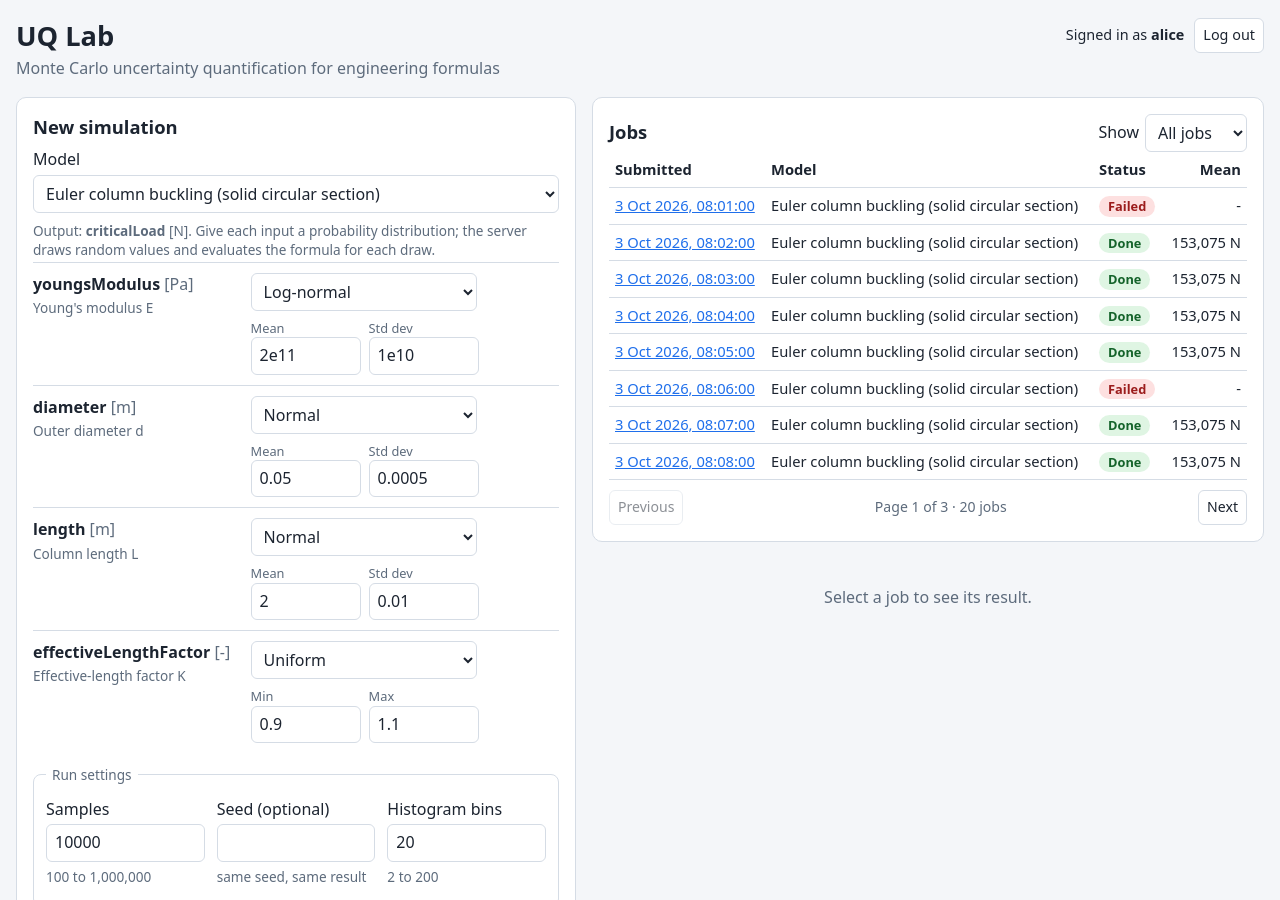
it: App › pages through the jobs and filters them by status
Expected: the text "Page 1 of 3 · 20 jobs" is shown, [875,497,1007,518]
Expected: the button "Previous" is disabled, [609,490,684,525]
Click the button "Next" at [1223, 508], box [1198,490,1247,525]
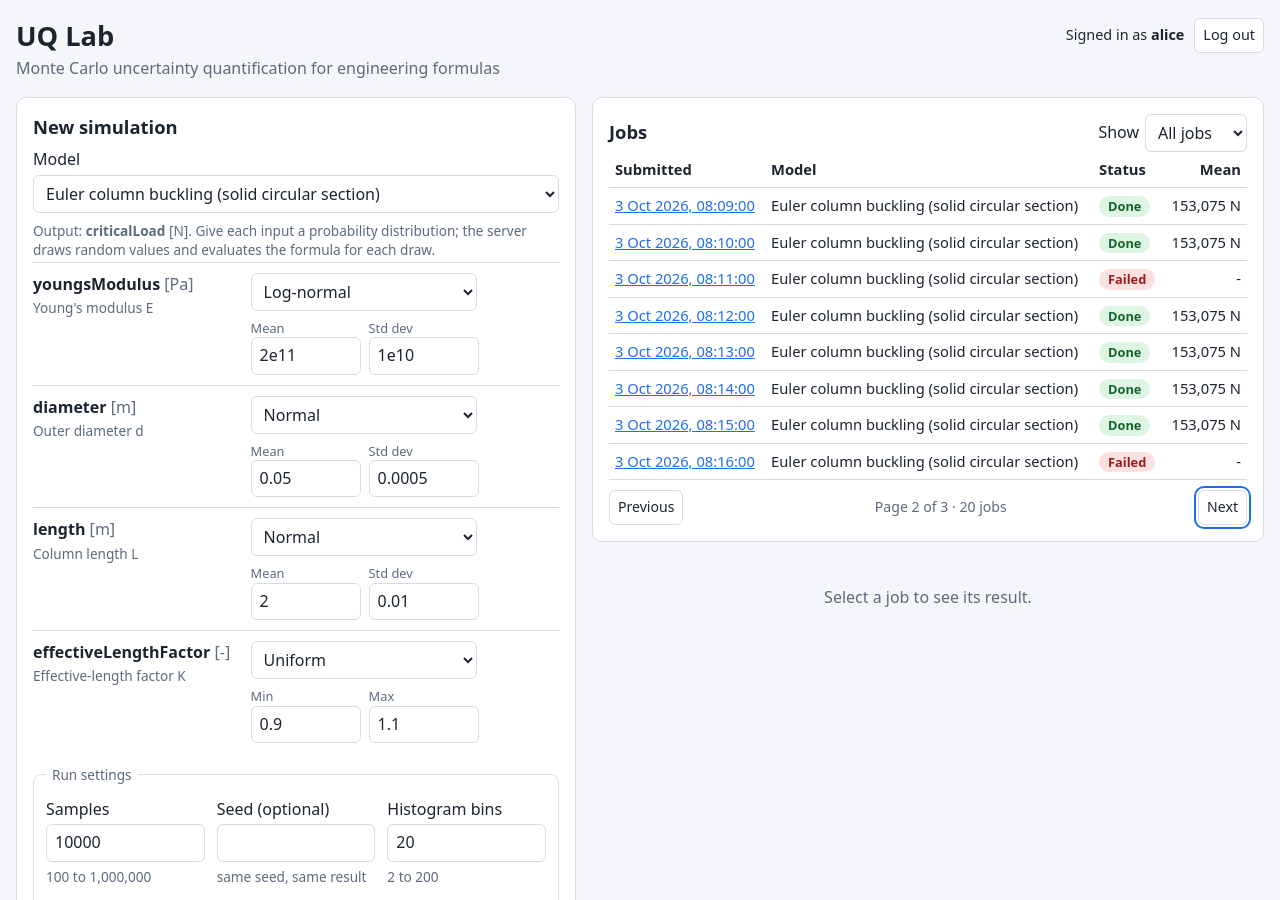
Now the text "Page 2 of 3 · 20 jobs" is shown, box [875,497,1007,518]
Select "Failed" in the dropdown named "Filter by status" at [1196, 133], box [1145,114,1247,152]
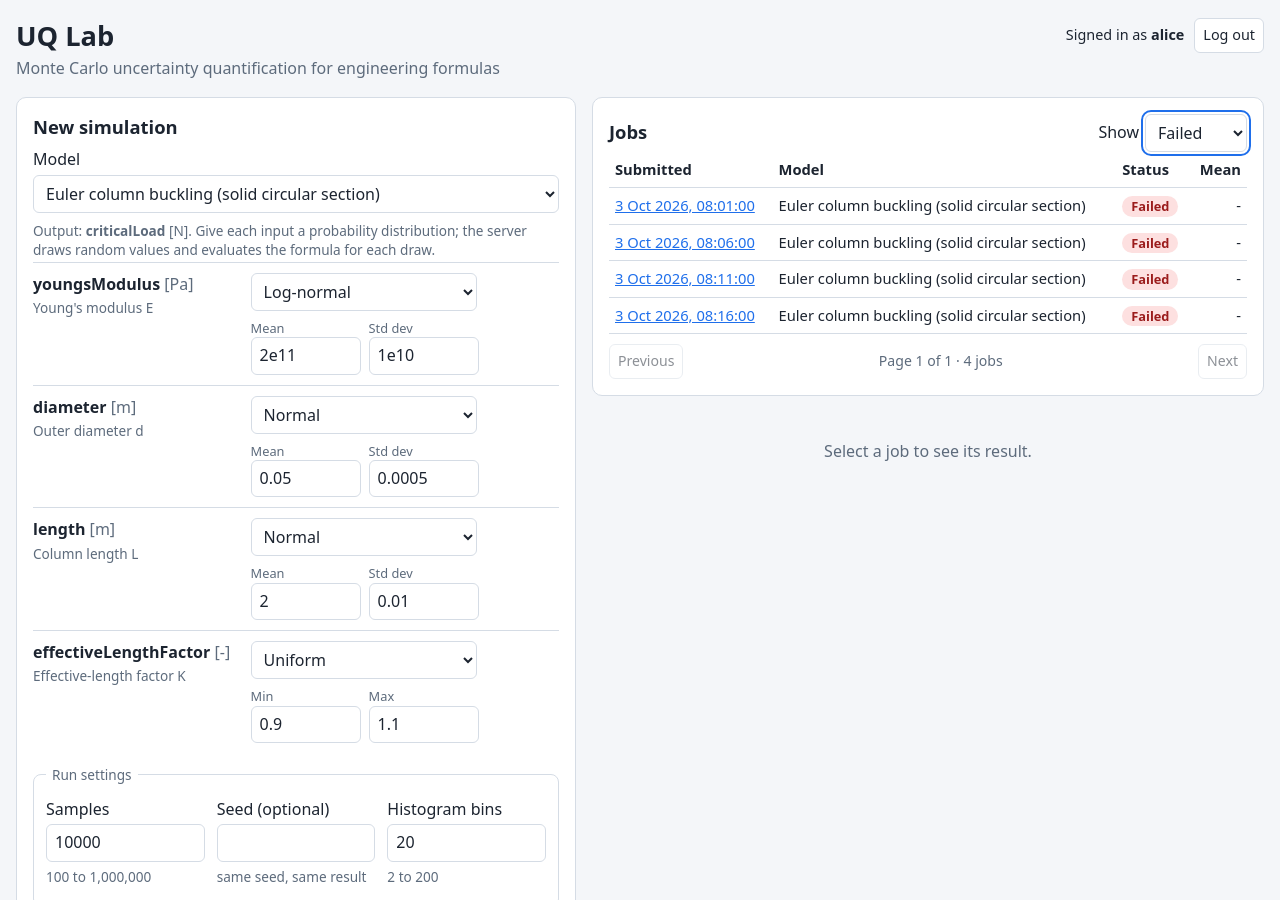
Now the text "Page 1 of 1 · 4 jobs" is shown, box [879,351,1003,372]
